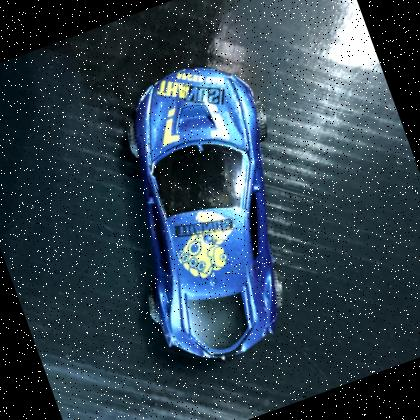Car: (70, 38, 350, 385)
